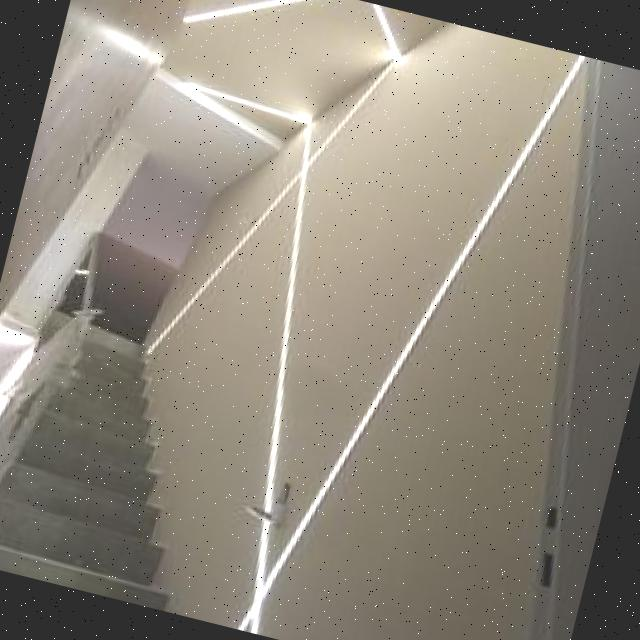stairs: (0, 304, 235, 611)
